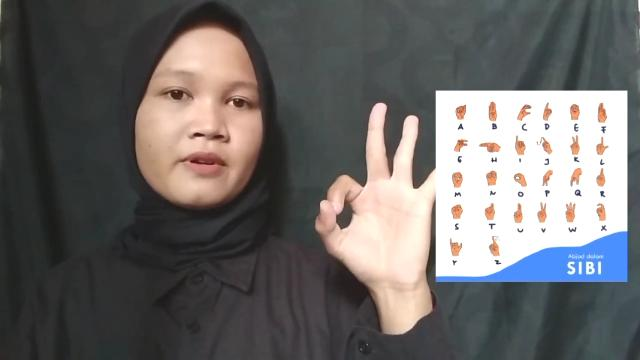F: (310, 99, 432, 285)
